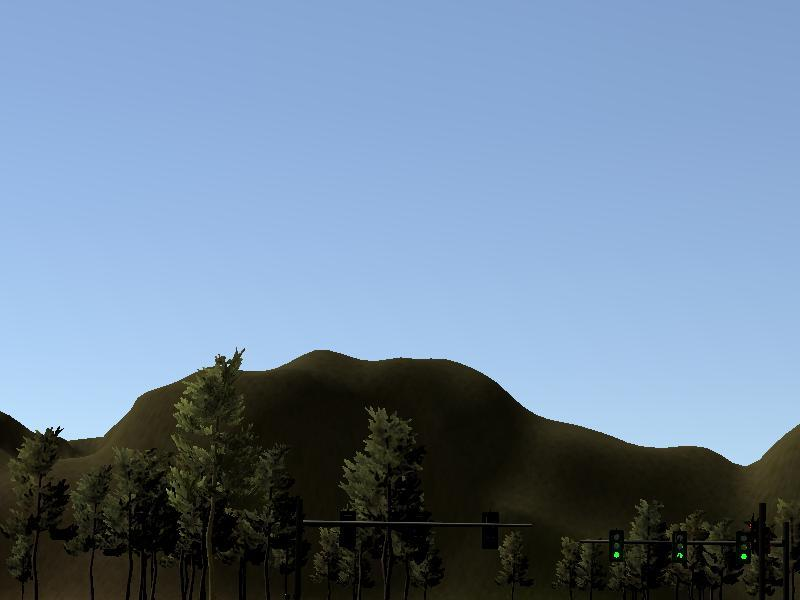Green: (736, 531, 751, 564), (609, 528, 623, 560), (674, 531, 687, 563)
